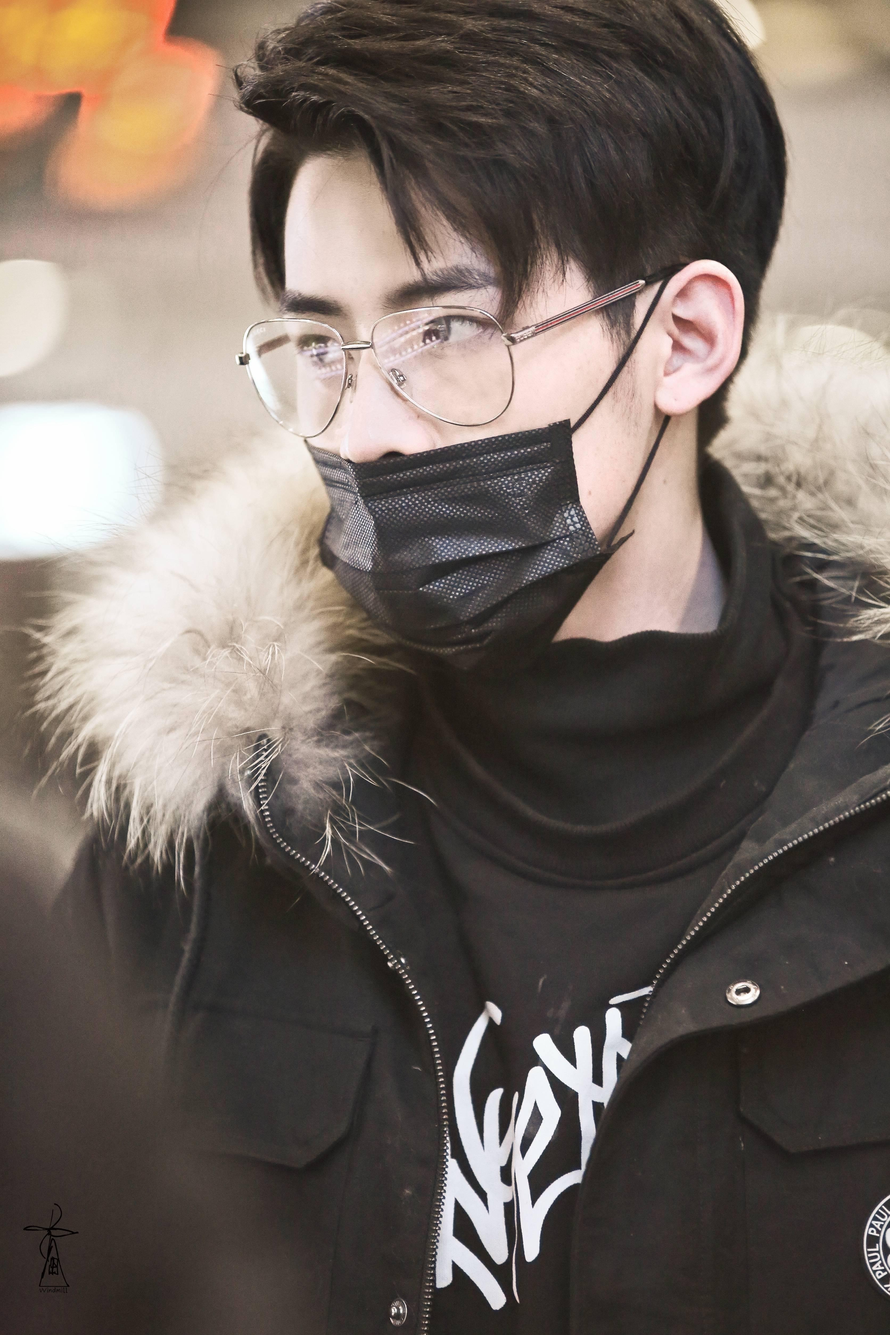WRONG: (281, 211, 624, 666)
